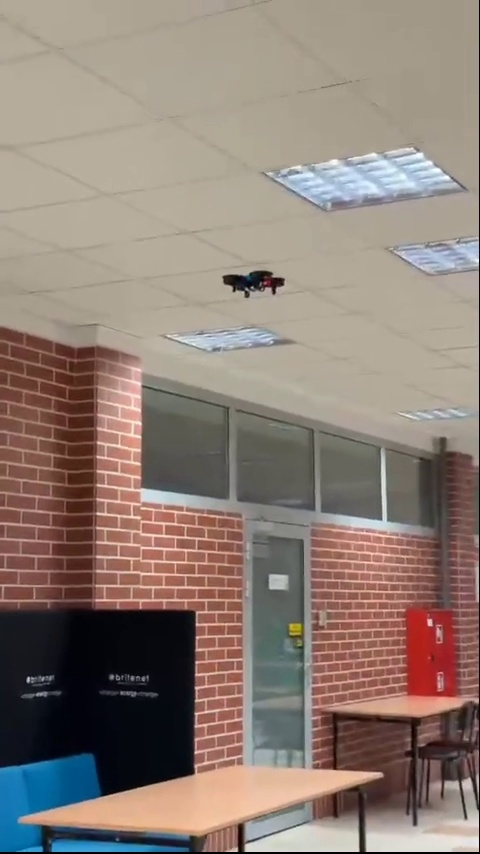drone: (222, 265, 288, 295)
